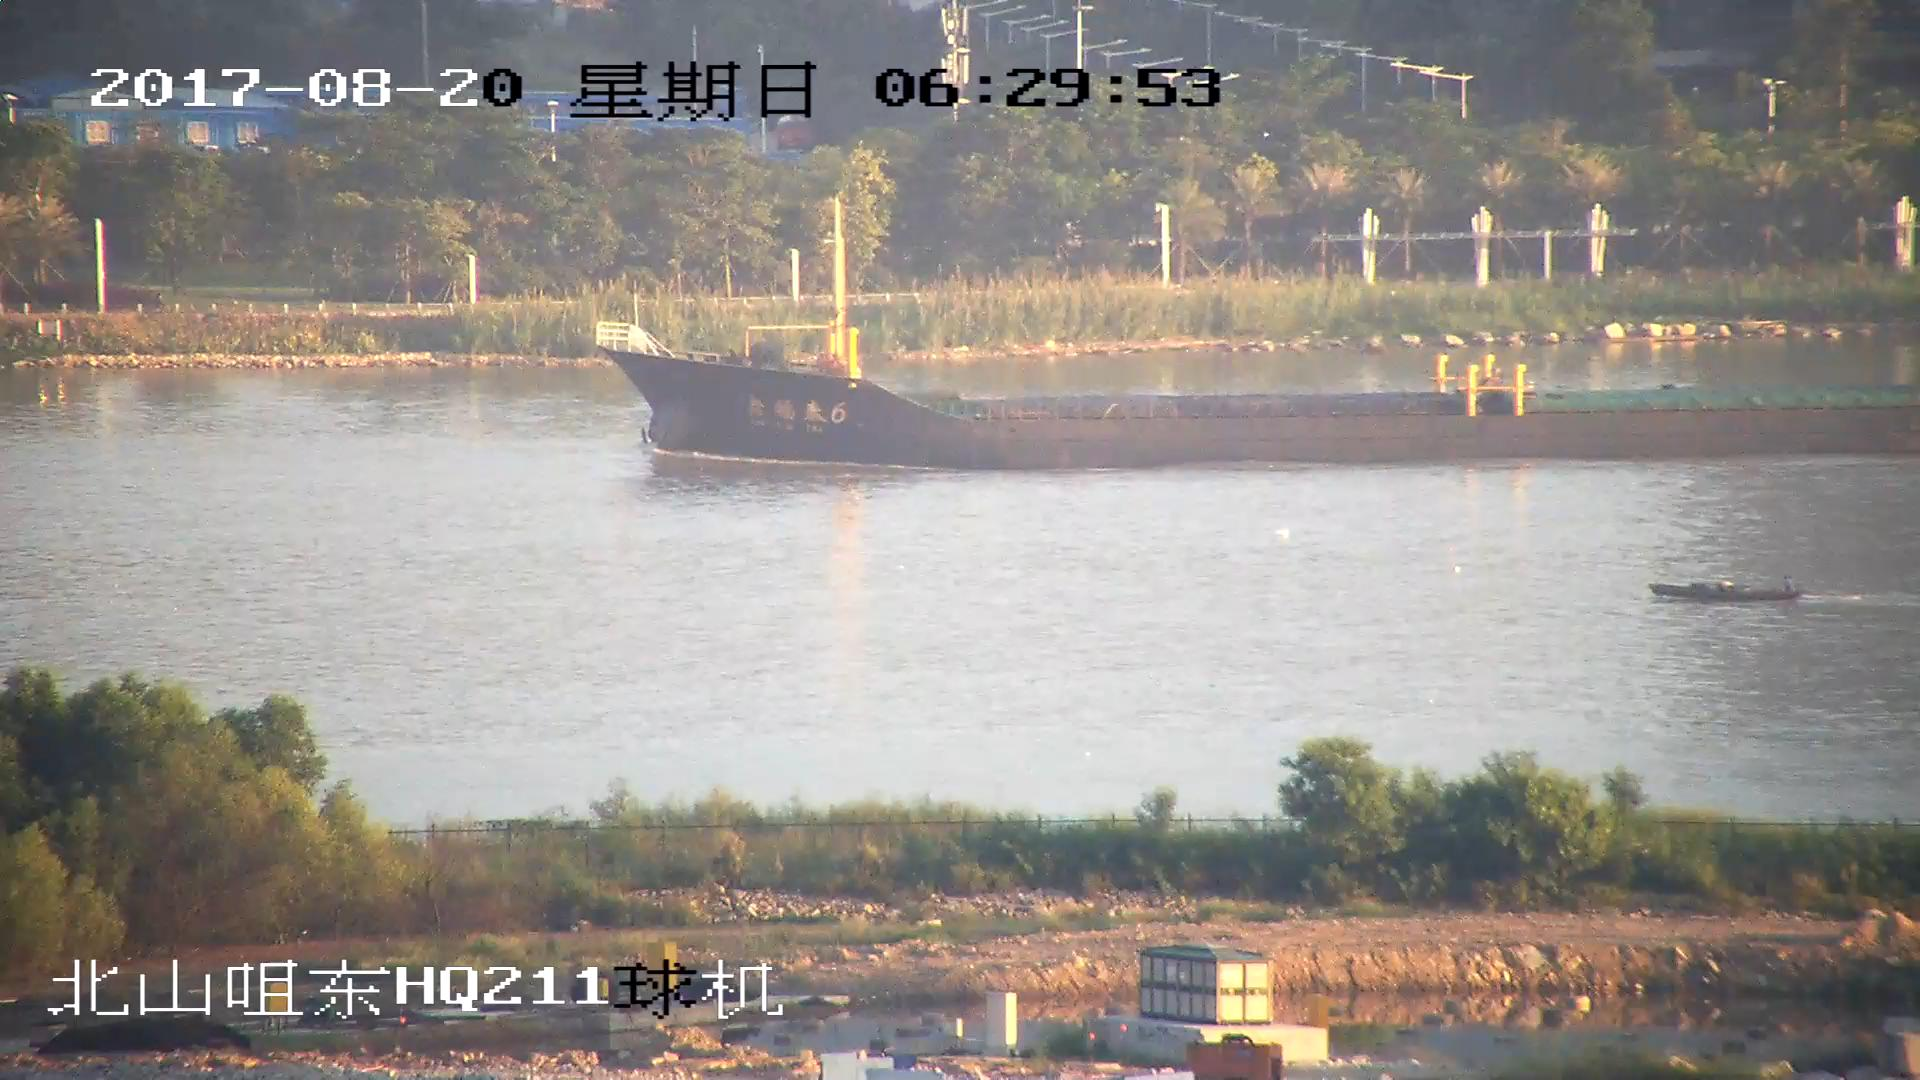fishing boat: (1649, 570, 1803, 606)
general cargo ship: (591, 208, 1920, 475)
